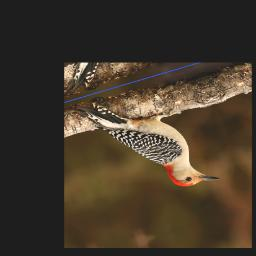Woodpecker: (68, 72, 219, 213)
